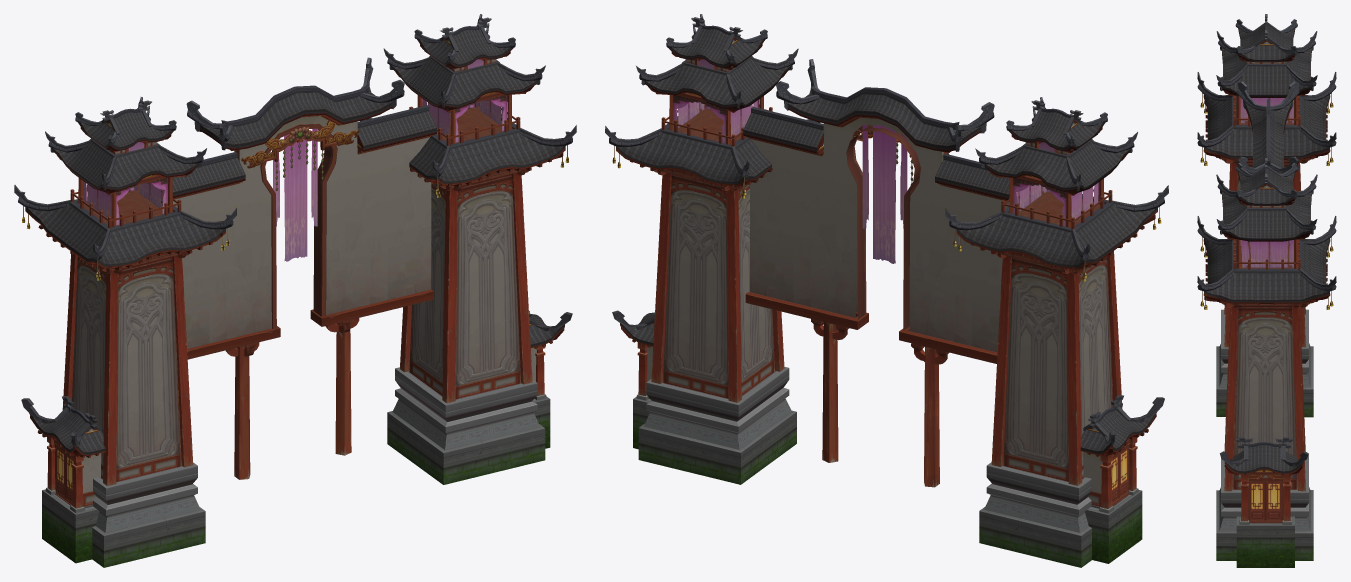
The model's file is ZYbui_CLF_jiaolou02.FBX.
3 renders of one model, left to right at view 1: azimuth 30°, elevation 25°; view 2: azimuth 150°, elevation 25°; view 3: azimuth 270°, elevation 25°, orthographic. The views are drawn at different scales.
Visible parts, largest first — view 1: ZYbui_CLF_jiaolou02; view 2: ZYbui_CLF_jiaolou02; view 3: ZYbui_CLF_jiaolou02.
Boxes of the visible parts, left/top/right/bottom form: ZYbui_CLF_jiaolou02: left=14, top=14, right=576, bottom=567; ZYbui_CLF_jiaolou02: left=605, top=14, right=1168, bottom=567; ZYbui_CLF_jiaolou02: left=1197, top=14, right=1336, bottom=567.
Bounding box in the file's own units: 3669 × 2991 × 1014.
